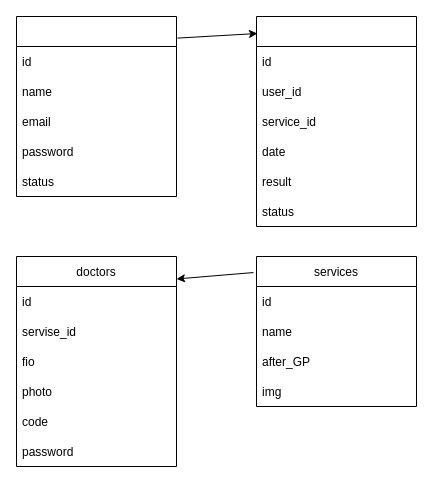
The diagram is 433 pixels wide and 483 high, and some of its shapes have lost their labels. Each missing label, with the box of its shape:
receptions: (256, 16, 416, 226)
users: (16, 16, 176, 196)
